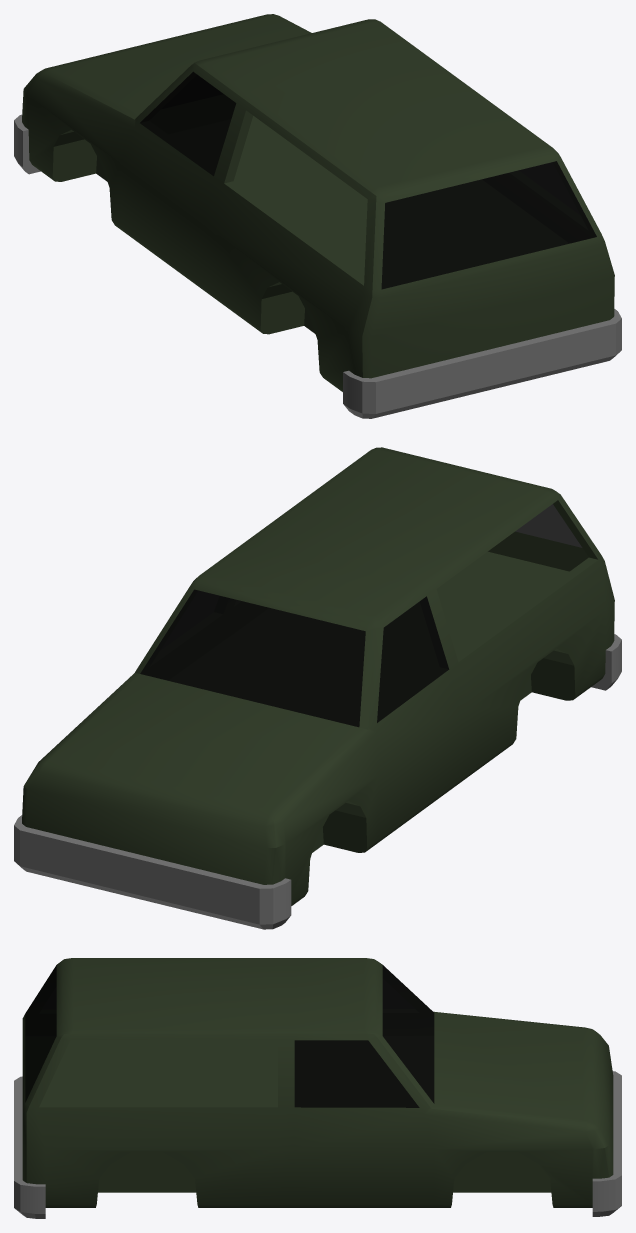
File: truck.glb
3 views of the same model, one above another, from view 1: azimuth 30°, elevation 25°; view 2: azimuth 150°, elevation 25°; view 3: azimuth 270°, elevation 25° (orthographic). The views are drawn at different scales.
Parts seen in each view (by area): view 1: Chassis; view 2: Chassis; view 3: Chassis.
Boxes of the visible parts, x1,y1,x2,y2 form: Chassis: (14,14,621,418); Chassis: (14,447,621,929); Chassis: (14,958,621,1218).
Bounding box in the file's own units: 1.52 × 1.31 × 3.5.
